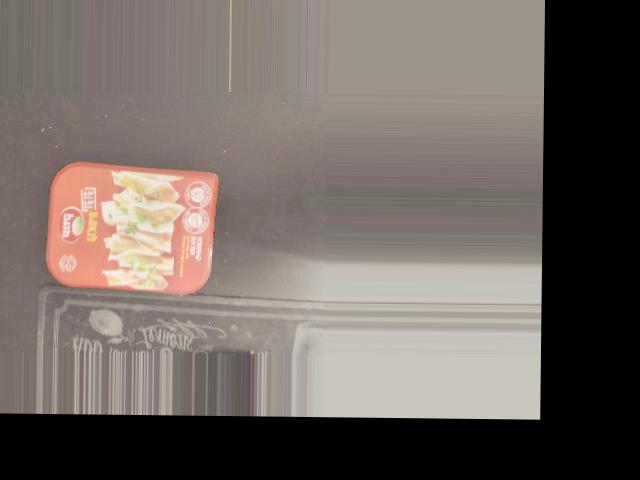cheese: (51, 168, 213, 287)
